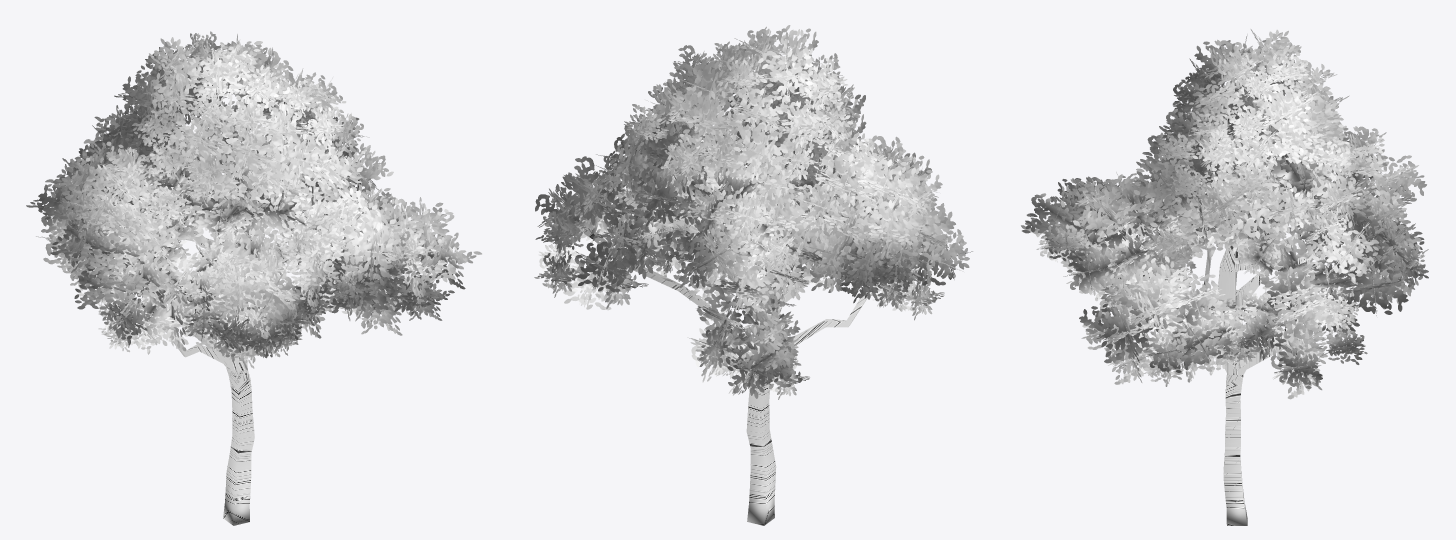
Rendered from BirchTree03.fbx.
The picture shows the model from 3 angles, left to right: view 1: azimuth 30°, elevation 25°; view 2: azimuth 150°, elevation 25°; view 3: azimuth 270°, elevation 25°; orthographic projection. The views are drawn at different scales.
Visible parts, largest first — view 1: BirchTree03_LOD0; view 2: BirchTree03_LOD0; view 3: BirchTree03_LOD0.
Part boxes in pixels (<box>): BirchTree03_LOD0: <box>26,31,481,525</box>; BirchTree03_LOD0: <box>534,25,972,525</box>; BirchTree03_LOD0: <box>1021,29,1428,525</box>.
Size of what is drawn, in the model's own units: 626 by 758 by 608.
Materials: 2 (2 with a texture image).
